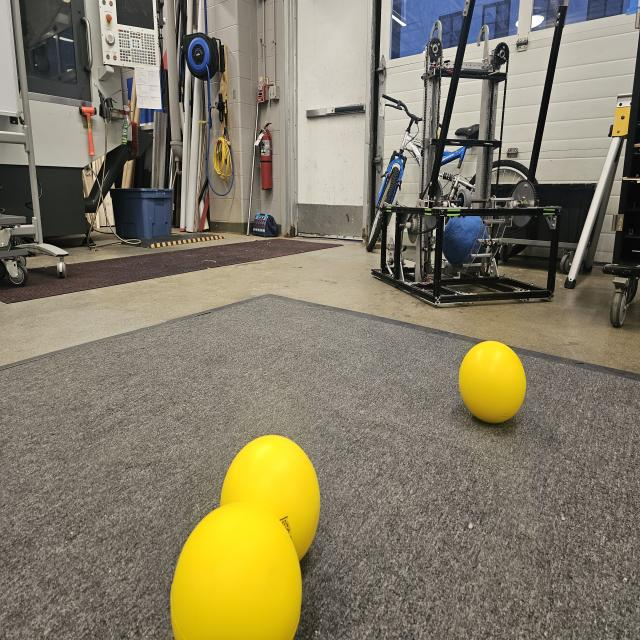Fuel: (170, 504, 301, 640), (220, 436, 319, 564), (458, 340, 526, 422)
